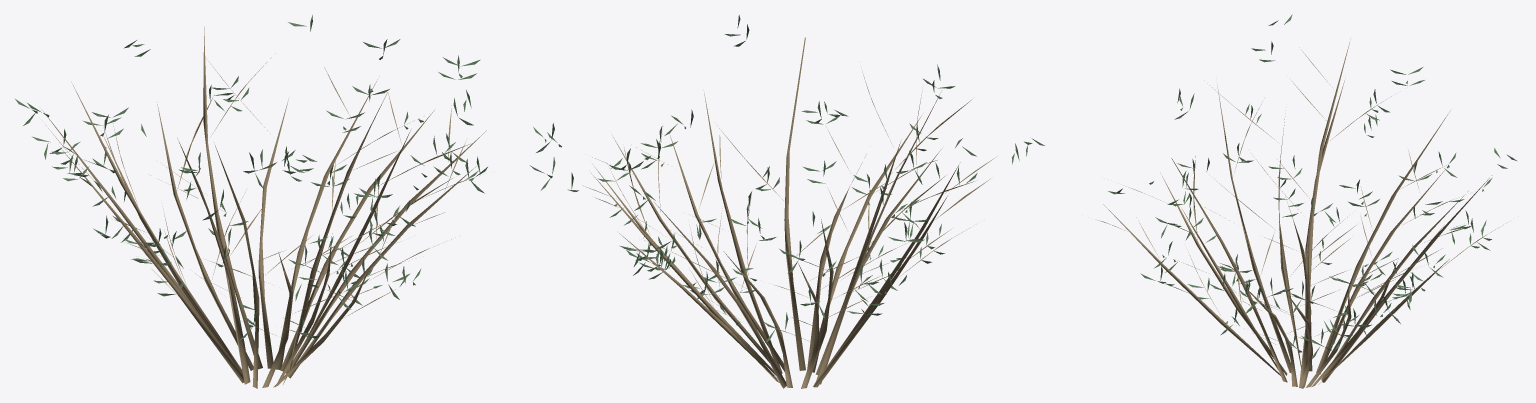
Rendered from Romarin_1_Niveau2.fbx.
3 renders of one model, left to right at view 1: azimuth 30°, elevation 25°; view 2: azimuth 150°, elevation 25°; view 3: azimuth 270°, elevation 25°, orthographic. The views are drawn at different scales.
Visible parts, largest first — view 1: Romarin_1_Niveau2; view 2: Romarin_1_Niveau2; view 3: Romarin_1_Niveau2.
Part boxes in pixels (x1=…): Romarin_1_Niveau2: x1=15, y1=15, x2=487, y2=388; Romarin_1_Niveau2: x1=529, y1=15, x2=1044, y2=388; Romarin_1_Niveau2: x1=1097, y1=14, x2=1517, y2=388.
Size of the model in its own units: 112 by 67.45 by 103.
